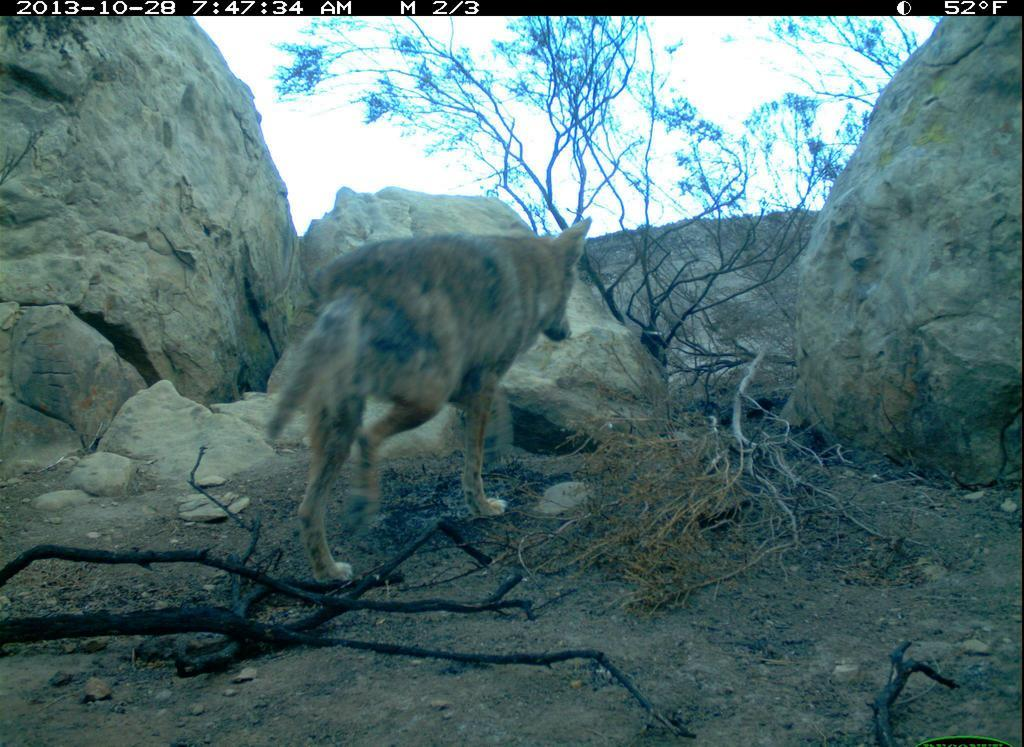coyote: (259, 214, 603, 591)
